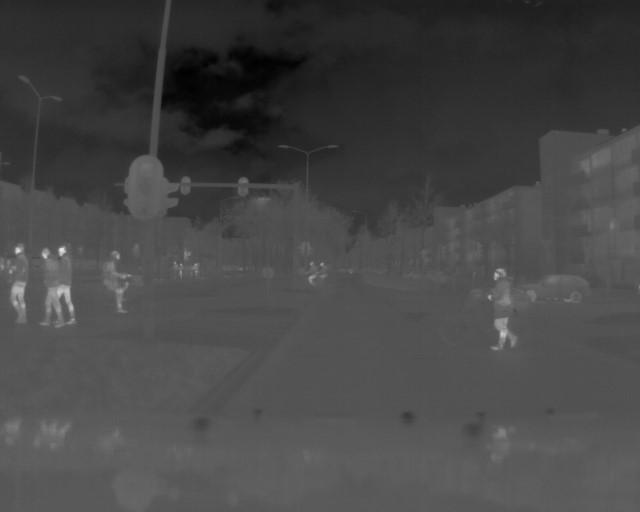car: (521, 267, 593, 304)
person: (489, 267, 517, 353), (40, 243, 63, 330), (9, 242, 31, 328), (104, 251, 130, 316), (58, 243, 75, 327), (307, 258, 317, 289)
